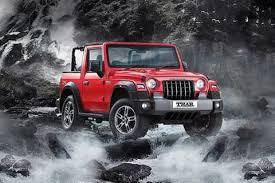car: (55, 33, 229, 140)
